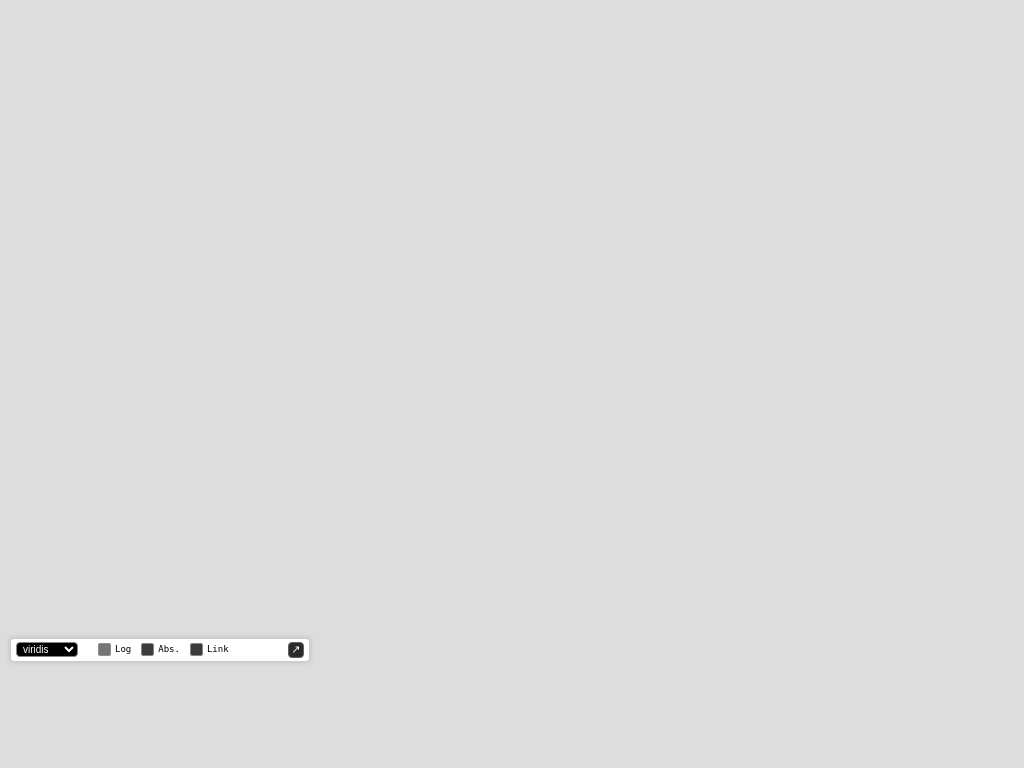
it: dialog: invalid use › clearing the Minimum value disables submission with a title
Step 1. Click the button with class "dialog-popout-btn" → (296, 650), box left=288, top=642, right=304, bottom=658
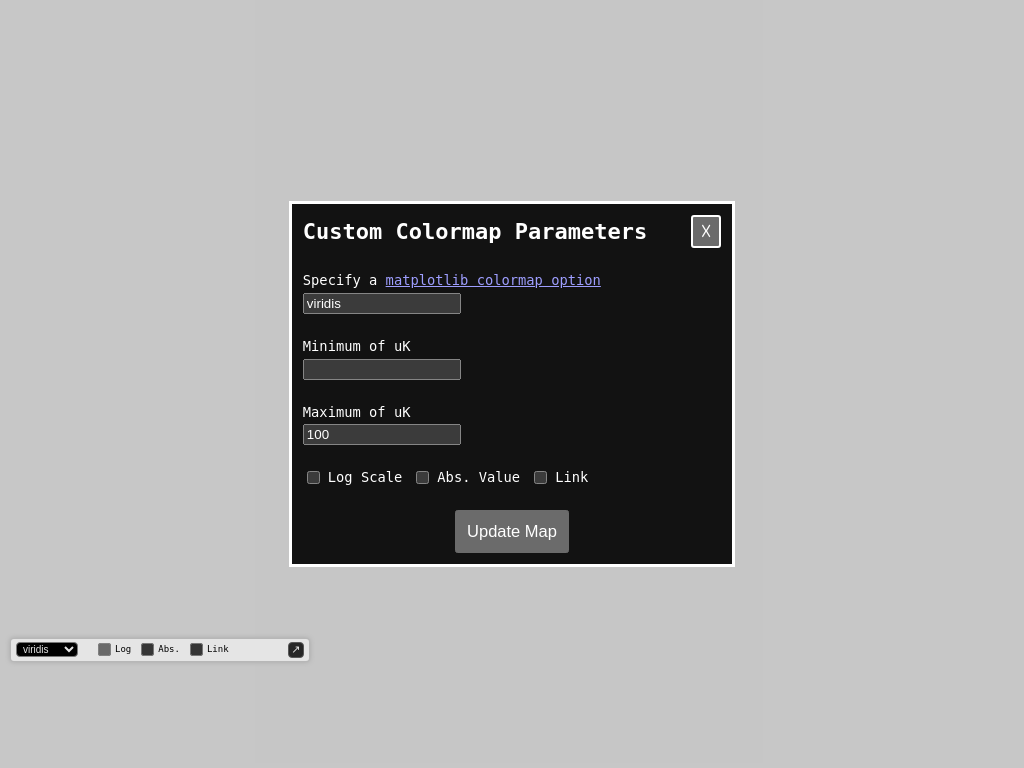
Step 2. Clear the number field labelled "Minimum of uK" → (382, 369), box left=303, top=358, right=461, bottom=380
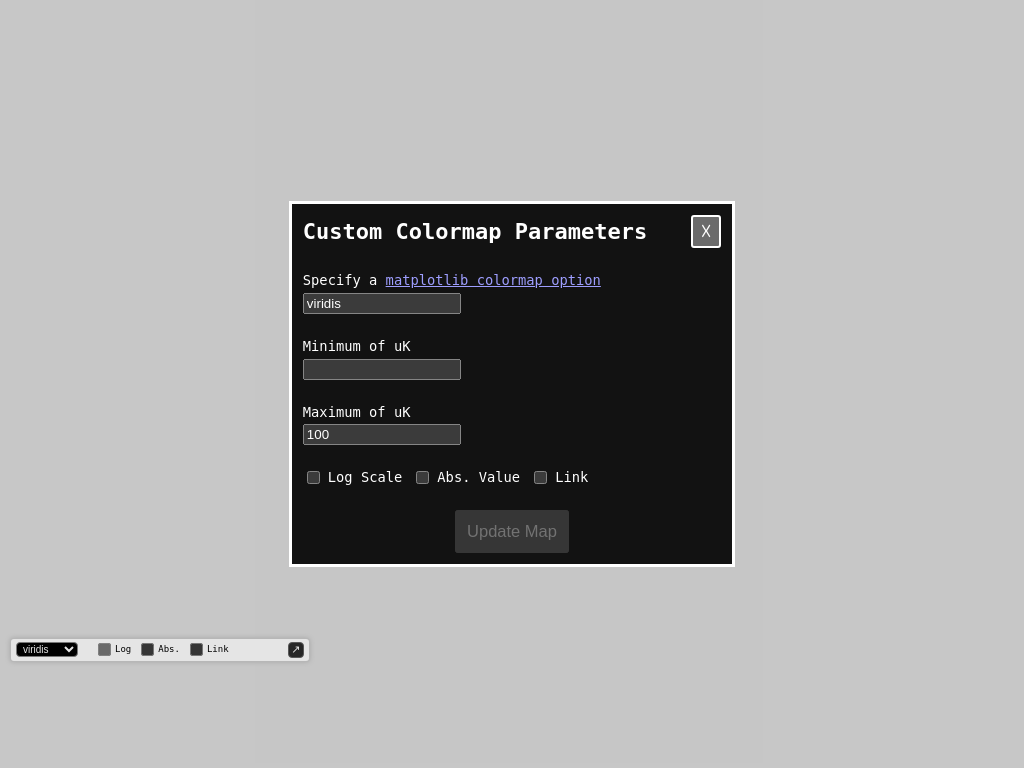
Now the submit button is disabled, box left=455, top=510, right=569, bottom=553
